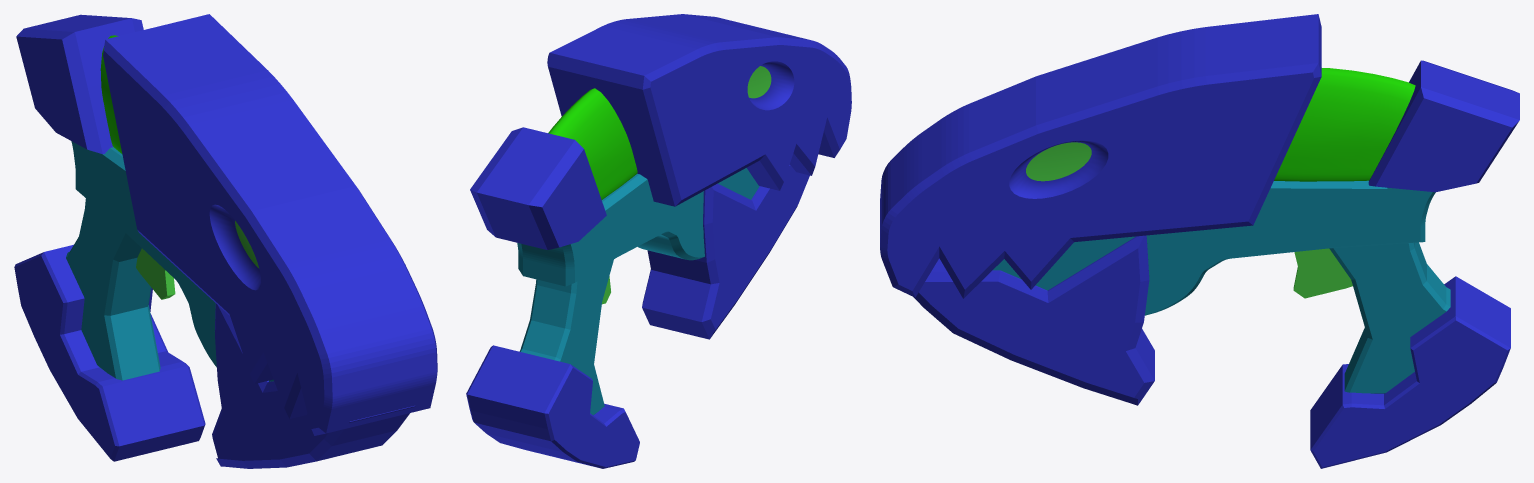
Rendered from SharkShooter.fbx.
3 renders of one model, left to right at view 1: azimuth 30°, elevation 25°; view 2: azimuth 150°, elevation 25°; view 3: azimuth 270°, elevation 25°, orthographic. The views are drawn at different scales.
Visible parts, largest first — view 1: head.002, Plane.014; view 2: Plane.014, head.002; view 3: Plane.014, head.002.
Boxes of the visible parts, x1=… form: head.002: x1=103, y1=14, x2=437, y2=435; Plane.014: x1=14, y1=14, x2=415, y2=468; Plane.014: x1=466, y1=88, x2=809, y2=468; head.002: x1=547, y1=14, x2=851, y2=206; Plane.014: x1=913, y1=60, x2=1519, y2=468; head.002: x1=880, y1=14, x2=1321, y2=298.
Size of the model in its own units: 7.14 by 25.62 by 36.21.
